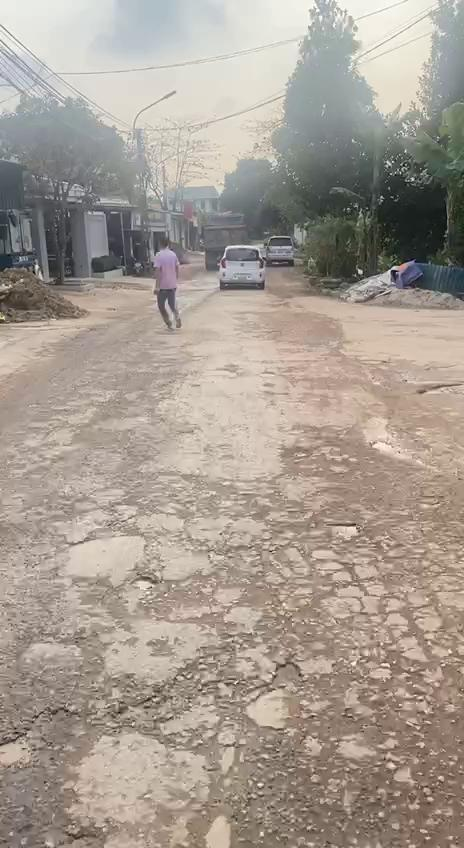pothole: (0, 709, 66, 774), (105, 687, 180, 737), (232, 660, 306, 709), (131, 572, 160, 594)
